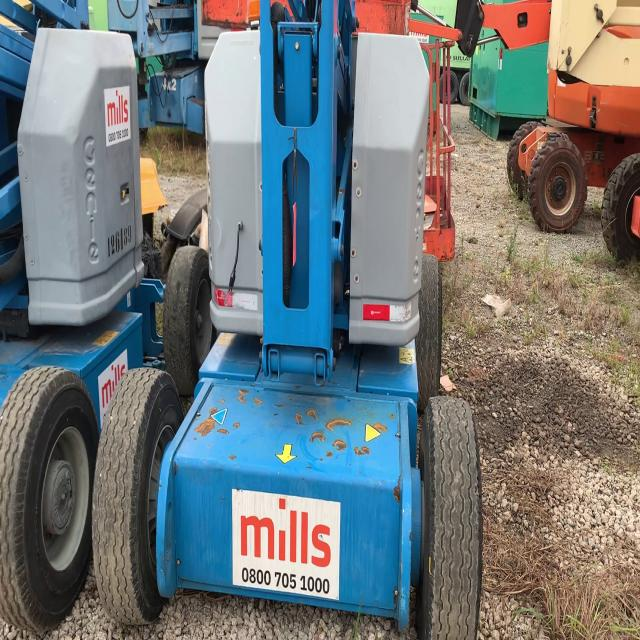Adesivos: (231, 487, 342, 604), (103, 85, 131, 150)
